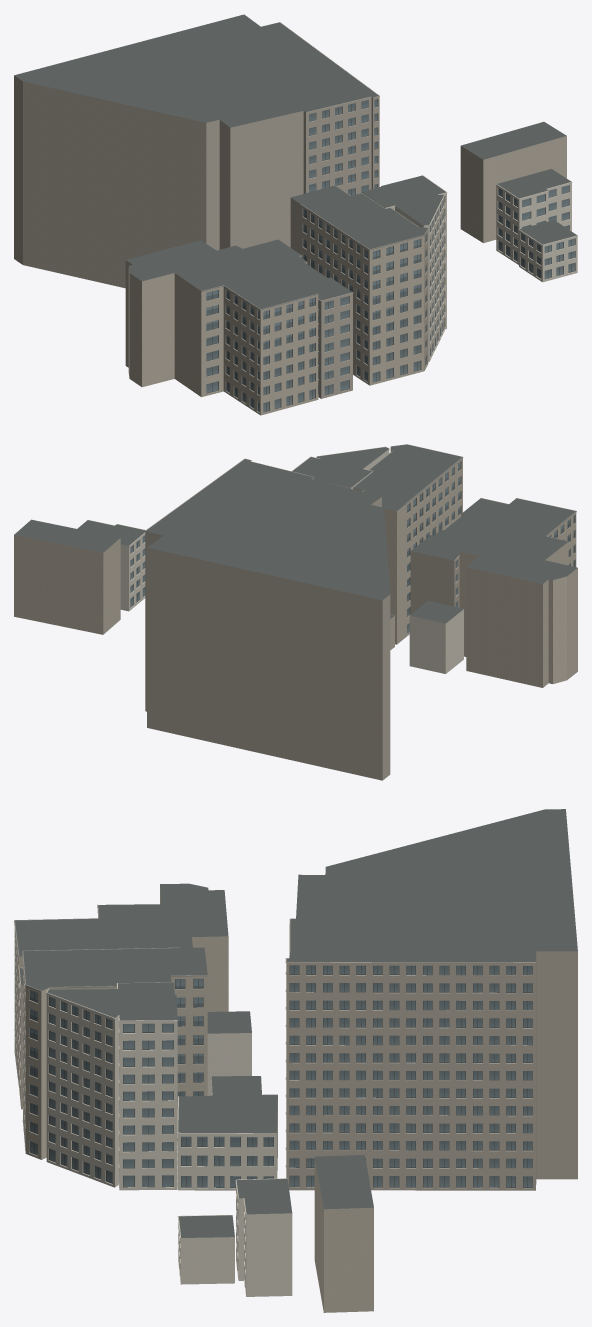
File: near.gltf
3 views of the same model, one above another, from view 1: azimuth 30°, elevation 25°; view 2: azimuth 150°, elevation 25°; view 3: azimuth 270°, elevation 25° (orthographic). The views are drawn at different scales.
Visible parts, largest first — view 1: cell-e008-n000_near_tile-wall, cell-e008-n000_near_roof, cell-e008-n000_near_stone, cell-e008-n000_near_glass, cell-e008-n000_near_plaster, cell-e008-n000_near_granite, cell-e008-n000_near_frame; view 2: cell-e008-n000_near_tile-wall, cell-e008-n000_near_roof, cell-e008-n000_near_stone, cell-e008-n000_near_plaster, cell-e008-n000_near_glass, cell-e008-n000_near_granite; view 3: cell-e008-n000_near_roof, cell-e008-n000_near_tile-wall, cell-e008-n000_near_glass, cell-e008-n000_near_plaster, cell-e008-n000_near_stone, cell-e008-n000_near_frame, cell-e008-n000_near_granite.
Boxes of the visible parts, x1,y1,x2,y2 form: cell-e008-n000_near_tile-wall: (14, 22, 379, 398); cell-e008-n000_near_roof: (14, 14, 576, 309); cell-e008-n000_near_stone: (125, 136, 566, 415); cell-e008-n000_near_glass: (206, 99, 574, 411); cell-e008-n000_near_plaster: (362, 175, 577, 361); cell-e008-n000_near_granite: (201, 185, 428, 412); cell-e008-n000_near_frame: (206, 99, 575, 412); cell-e008-n000_near_tile-wall: (145, 458, 508, 780); cell-e008-n000_near_roof: (14, 444, 577, 623); cell-e008-n000_near_stone: (14, 447, 577, 687); cell-e008-n000_near_plaster: (88, 446, 463, 673); cell-e008-n000_near_glass: (130, 462, 574, 633); cell-e008-n000_near_granite: (352, 444, 576, 634); cell-e008-n000_near_roof: (15, 809, 577, 1237); cell-e008-n000_near_tile-wall: (18, 918, 577, 1190); cell-e008-n000_near_glass: (30, 965, 532, 1187); cell-e008-n000_near_plaster: (46, 983, 292, 1296); cell-e008-n000_near_stone: (14, 885, 373, 1312); cell-e008-n000_near_frame: (29, 965, 532, 1187); cell-e008-n000_near_granite: (14, 904, 212, 1156).
Size of the model in its own units: 117 by 41.66 by 93.34.
7 materials, 5 textured.
